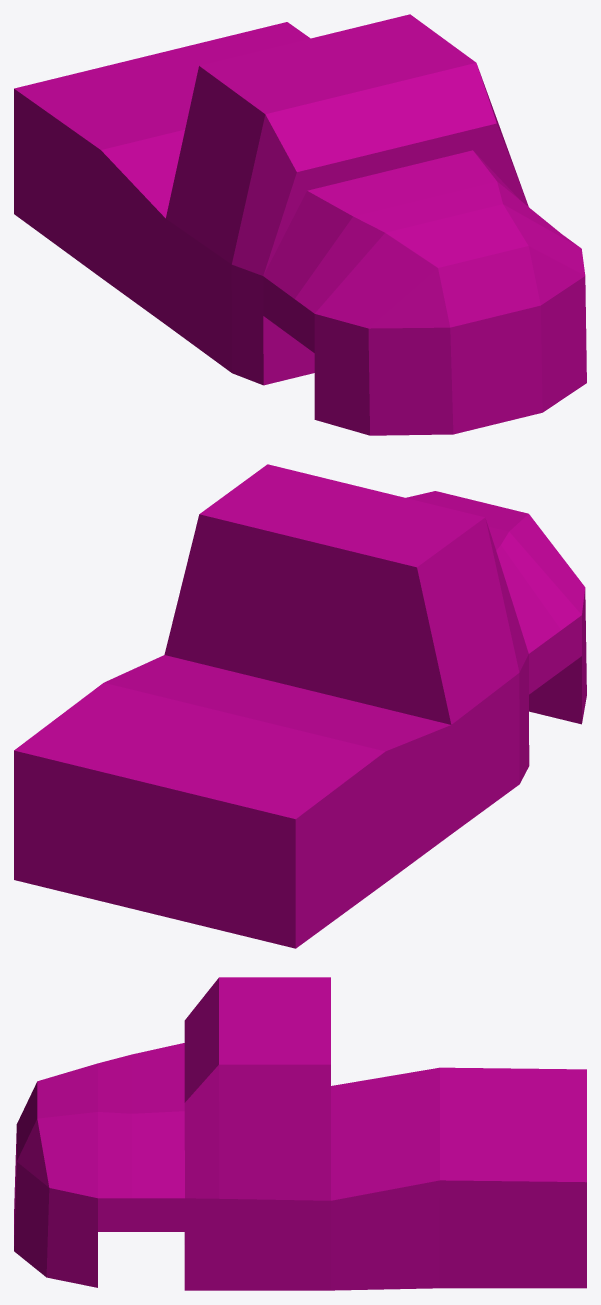
The model's file is SM_Veh_Truck_Preset_02_Collision.fbx.
3 renders of one model, top to bottom at view 1: azimuth 30°, elevation 25°; view 2: azimuth 150°, elevation 25°; view 3: azimuth 270°, elevation 25°, orthographic. The views are drawn at different scales.
Visible parts, largest first — view 1: SM_Veh_Truck_Preset_02_Collision; view 2: SM_Veh_Truck_Preset_02_Collision; view 3: SM_Veh_Truck_Preset_02_Collision.
Part boxes in pixels (x1,y1,x2,y2): SM_Veh_Truck_Preset_02_Collision: [14, 14, 586, 435]; SM_Veh_Truck_Preset_02_Collision: [14, 464, 586, 948]; SM_Veh_Truck_Preset_02_Collision: [14, 977, 586, 1290].
Size of the model in its own units: 335 by 288 by 706.
